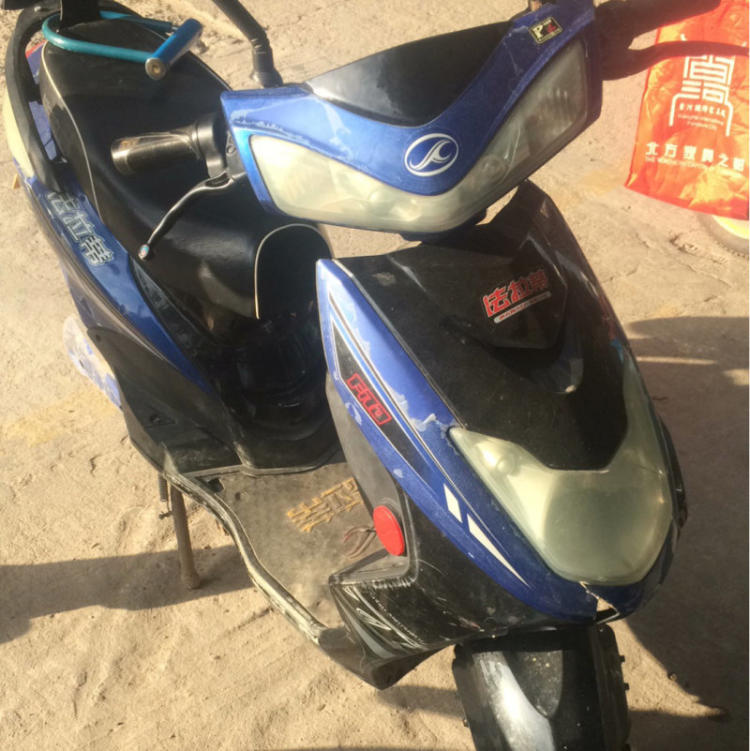电动车: (2, 1, 701, 749)
